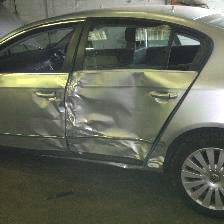door_dent: (55, 55, 174, 176)
